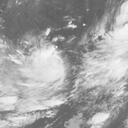cyclone: (16, 42, 68, 86), (107, 27, 127, 71)
